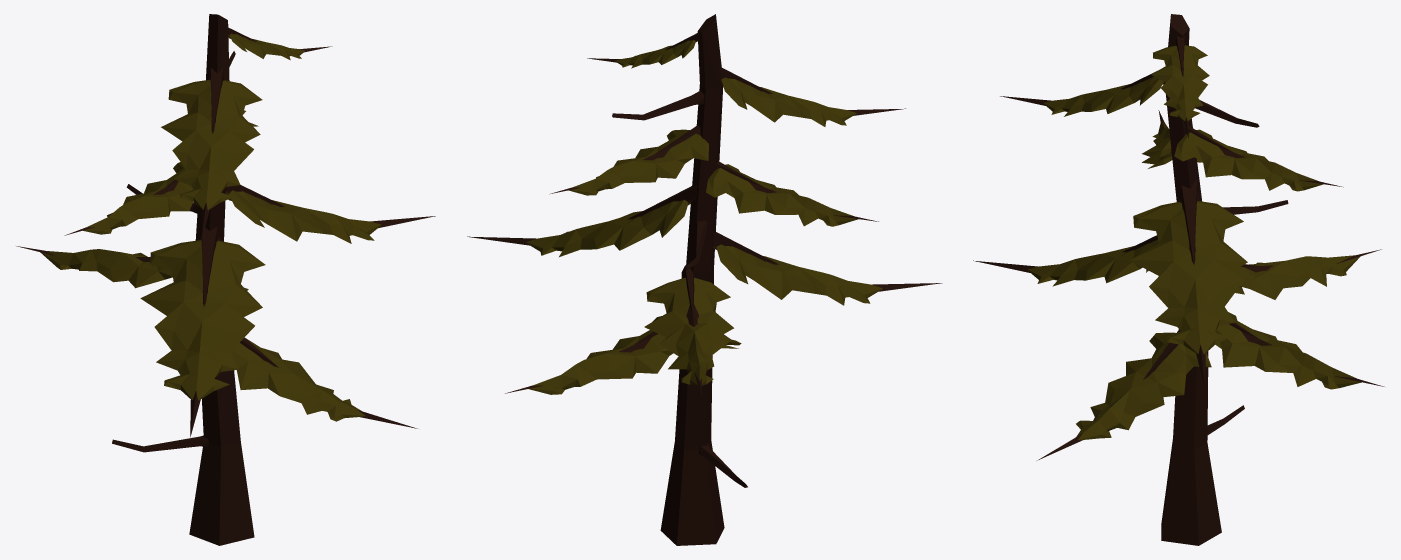
The model's file is FirTree2.fbx.glb.
3 views of the same model, side by side, from view 1: azimuth 30°, elevation 25°; view 2: azimuth 150°, elevation 25°; view 3: azimuth 270°, elevation 25° (orthographic). The views are drawn at different scales.
Parts seen in each view (by area): view 1: FirTree2; view 2: FirTree2; view 3: FirTree2.
Boxes of the visible parts, <box> form: FirTree2: <box>16,14,435,545</box>; FirTree2: <box>467,14,942,545</box>; FirTree2: <box>973,14,1384,545</box>.
Size of the model in its own units: 339 by 427 by 314.
